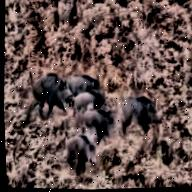boar: (24, 63, 75, 122), (60, 132, 103, 177), (78, 101, 120, 146), (71, 86, 110, 127), (69, 67, 106, 98)
